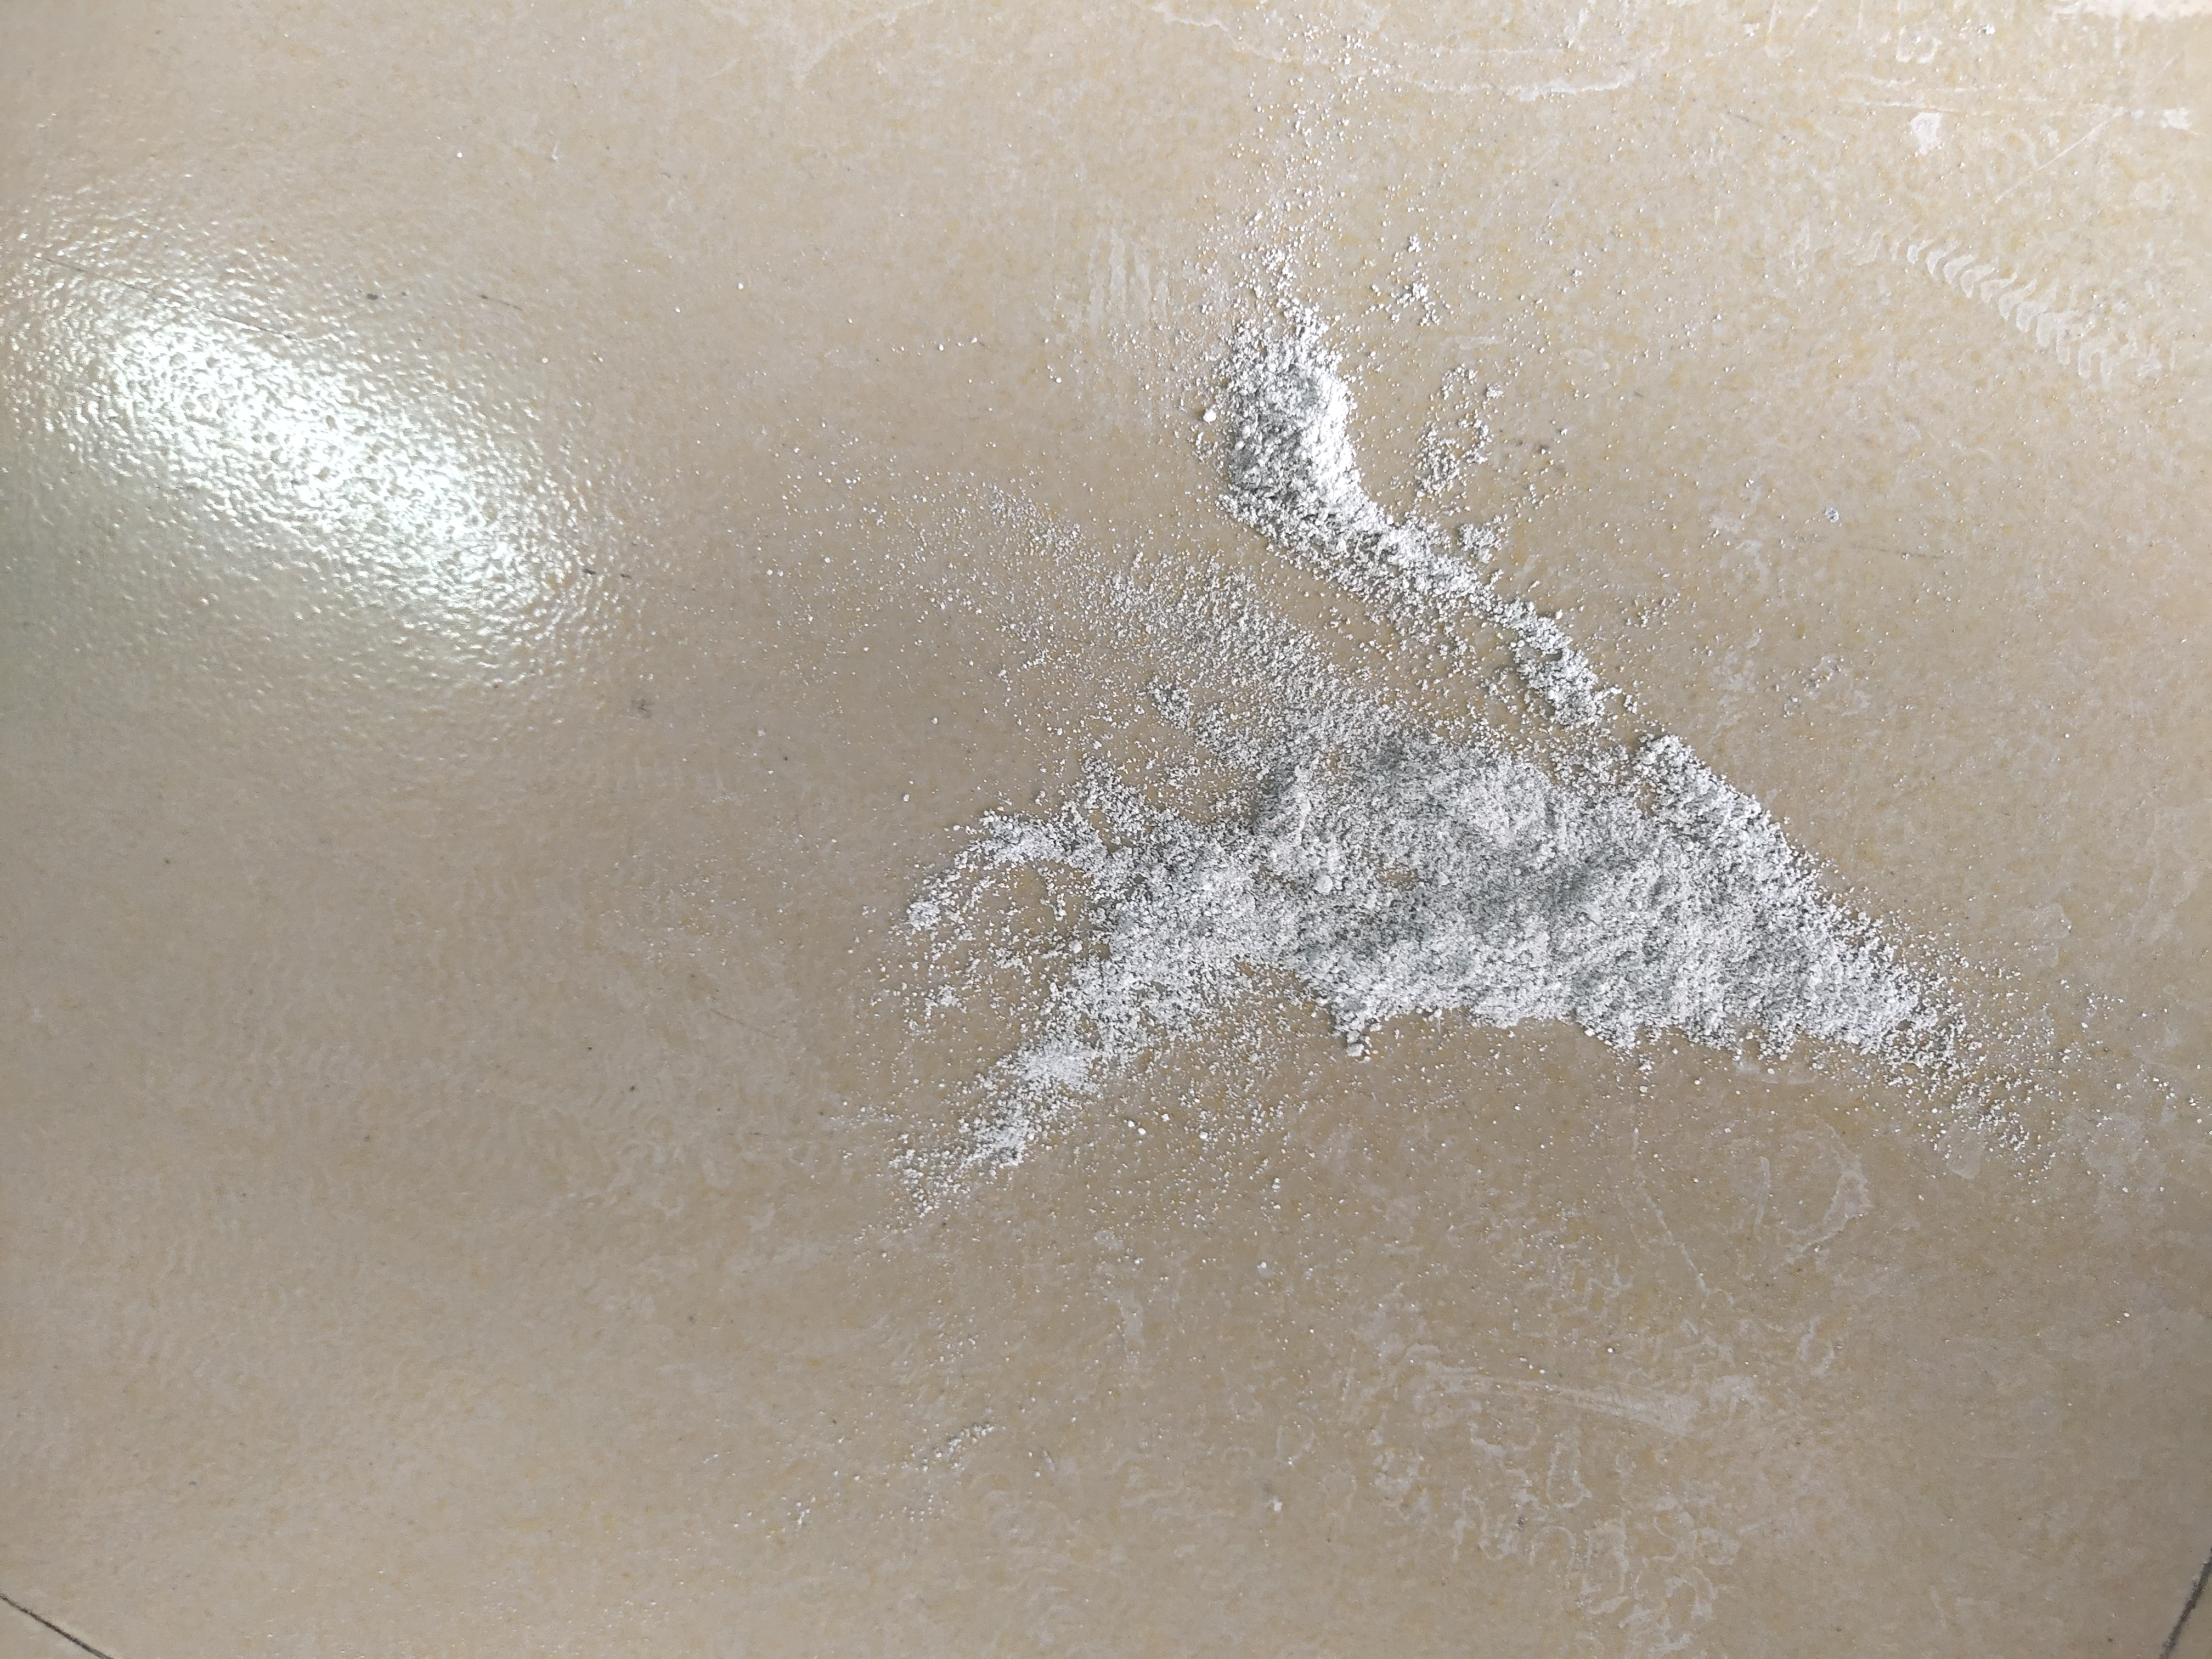ash pile: (859, 234, 2038, 1220)
reflection: (16, 239, 601, 680)
